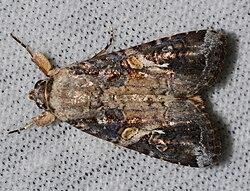army worm adult: (4, 26, 244, 174)
